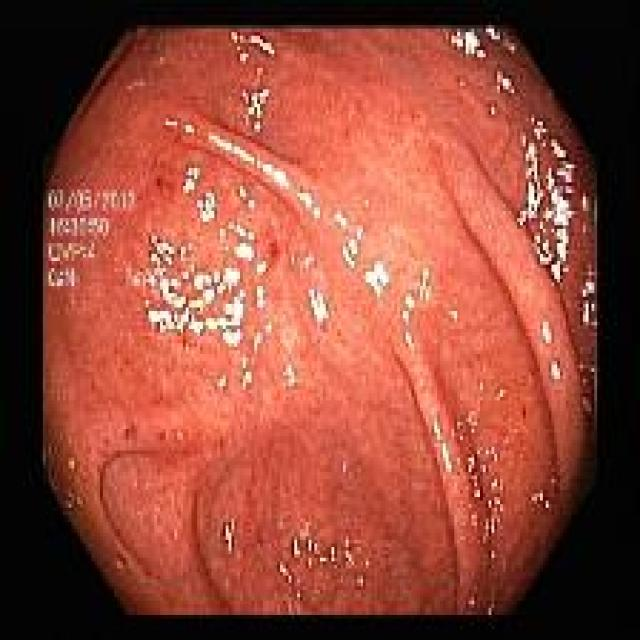ulcerative-colitis: (44, 27, 599, 614)
